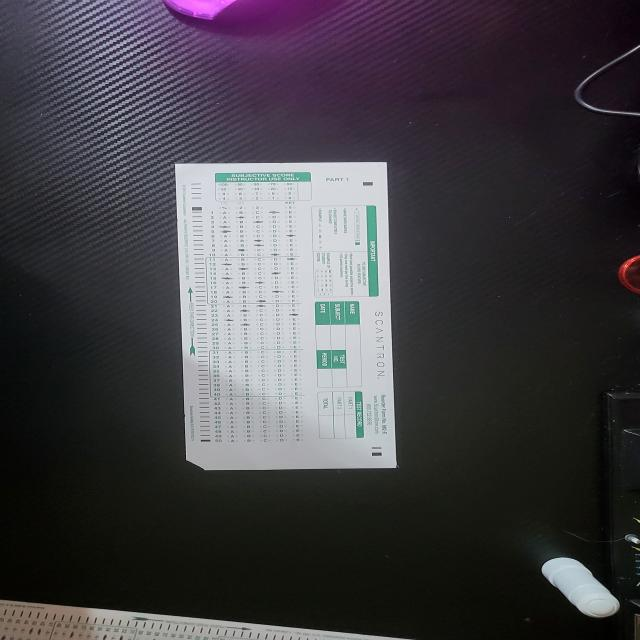scantron: (176, 162, 397, 471)
